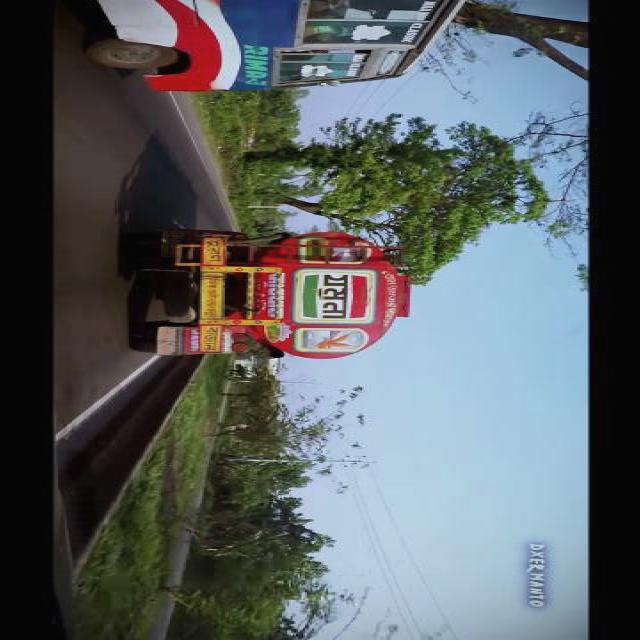truck: (123, 226, 420, 359)
